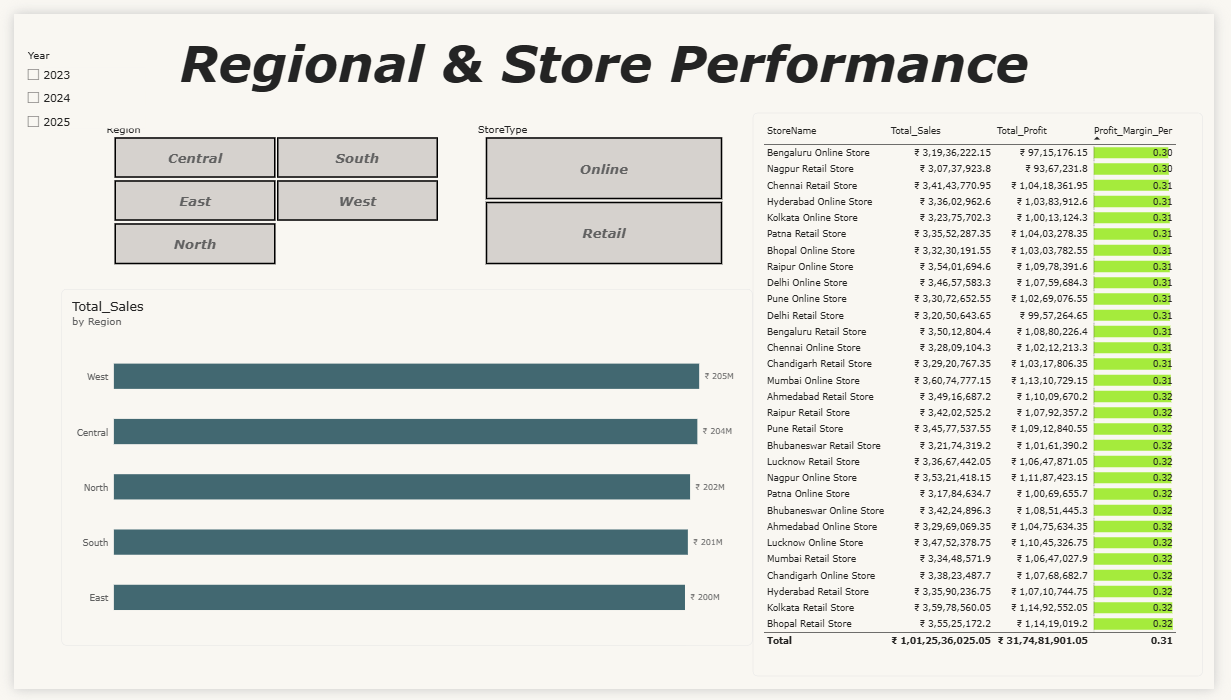

The page's visual inventory and layout, read from the dashboard file:
{"tool":"powerbi","page":{"name":"Regional & Store Performance","canvas":[1920,1080],"ordinal":1},"visuals":[{"type":"clusteredBarChart","fields":{"Category":["Dim_Store.Region"],"Y":["_Measures.Total_Sales"]},"box":[76,439.7,1105.7,570],"z":0},{"type":"tableEx","fields":{"Values":["Dim_Store.StoreName","_Measures.Total_Sales","_Measures.Total_Profit","_Measures.Profit_Margin_Per"]},"box":[1181.7,157.4,720.2,901.2],"z":1000},{"type":"slicer","fields":{"Values":["Dim_Store.Region"]},"box":[139.3,173.7,557.4,228],"z":2000},{"type":"slicer","fields":{"Values":["Dim_Store.StoreType"]},"box":[734.7,173.7,418,228],"z":3000},{"type":"textbox","box":[184,28,1520.1,144.8],"z":4000},{"type":"slicer","fields":{"Values":["Dim_Date.Year"]},"box":[13,55,196,150],"z":4001}]}

Visuals, with their boxes in screenshot pixels (x1, y1, x2, y2), scaled from the page's 1920x1080 canvas onto the 1231x700 screenshot:
clusteredBarChart - Dim_Store.Region x _Measures.Total_Sales: (left=49, top=285, right=758, bottom=654)
tableEx - Dim_Store.StoreName x _Measures.Total_Sales: (left=758, top=102, right=1219, bottom=686)
slicer - Dim_Store.Region: (left=89, top=113, right=447, bottom=260)
slicer - Dim_Store.StoreType: (left=471, top=113, right=739, bottom=260)
textbox: (left=118, top=18, right=1093, bottom=112)
slicer - Dim_Date.Year: (left=8, top=36, right=134, bottom=133)
